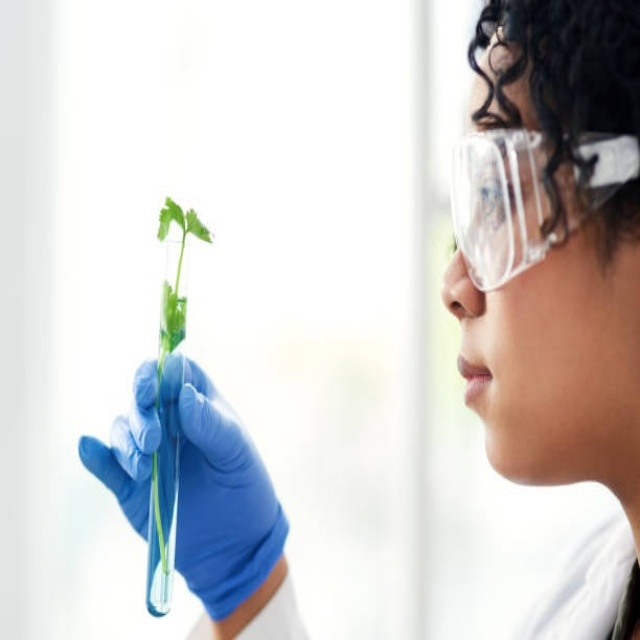Gafas: (448, 128, 639, 291)
Guantes: (80, 349, 295, 623)
Sin_mascara: (450, 317, 530, 462)
